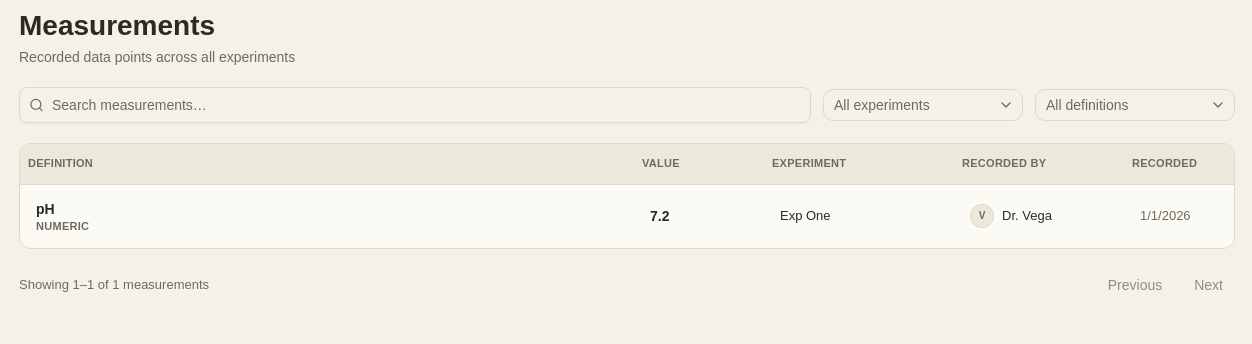
Test: MeasurementsPage › should filter out rows that do not match the search
In the field with placeholder "Search measurements…": (415, 105) [19,87,811,123], type "zzz"
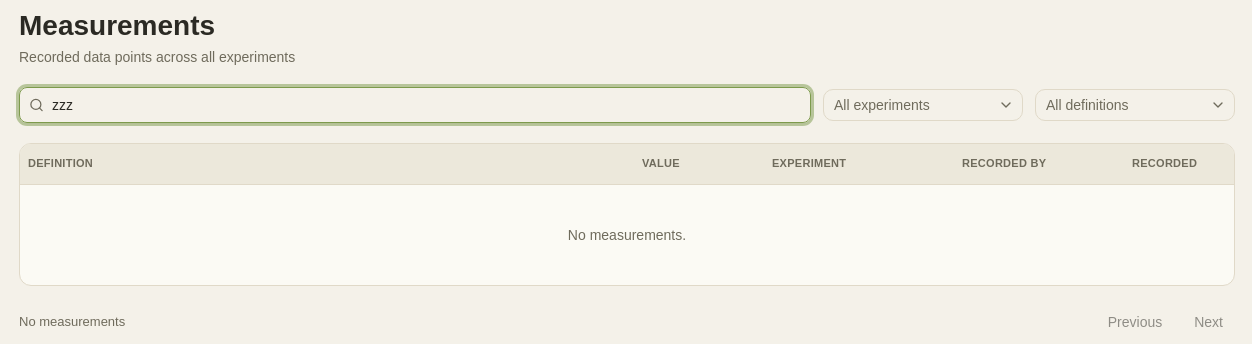
Expected: the text "pH" is gone
